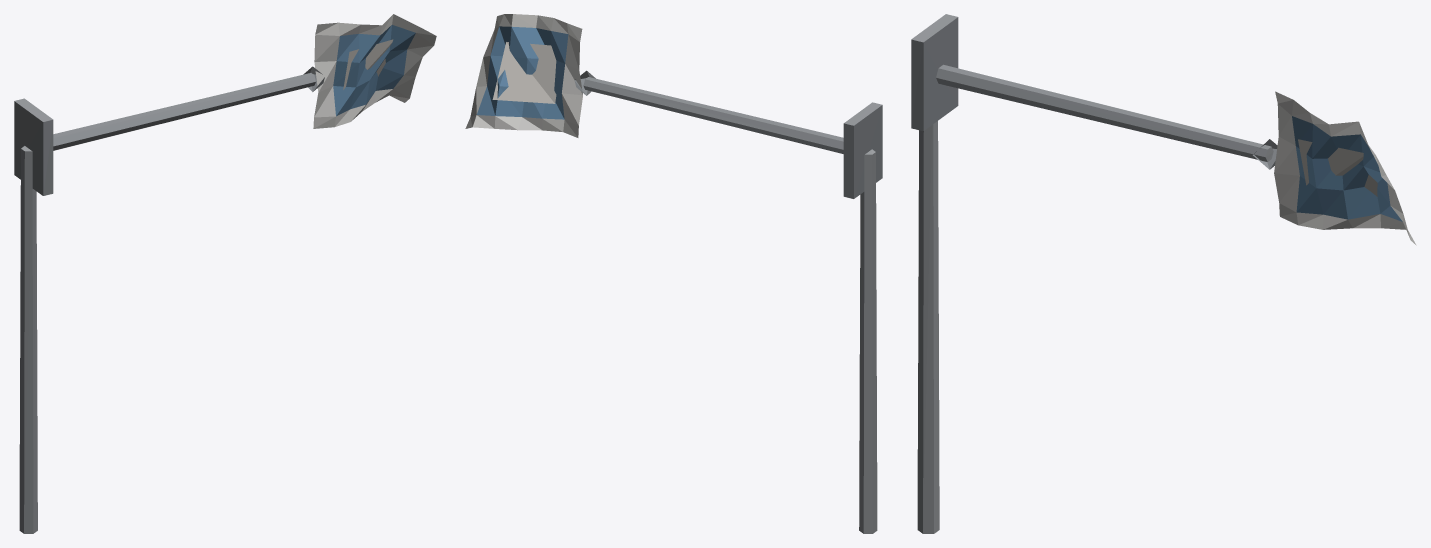
Rendered from flag.square.qingqi__pole.horizontal.big__armFly.glb.
The picture shows the model from 3 angles, left to right: view 1: azimuth 30°, elevation 25°; view 2: azimuth 150°, elevation 25°; view 3: azimuth 330°, elevation 25°; orthographic projection. The views are drawn at different scales.
Visible parts, largest first — view 1: flag.square.qingqi; view 2: flag.square.qingqi; view 3: flag.square.qingqi.
Boxes of the visible parts, x1,y1,x2,y2 form: flag.square.qingqi: (14, 14, 436, 533); flag.square.qingqi: (465, 14, 882, 533); flag.square.qingqi: (911, 14, 1416, 533).
Bounding box in the file's own units: 3.49 × 3.65 × 0.5482.
